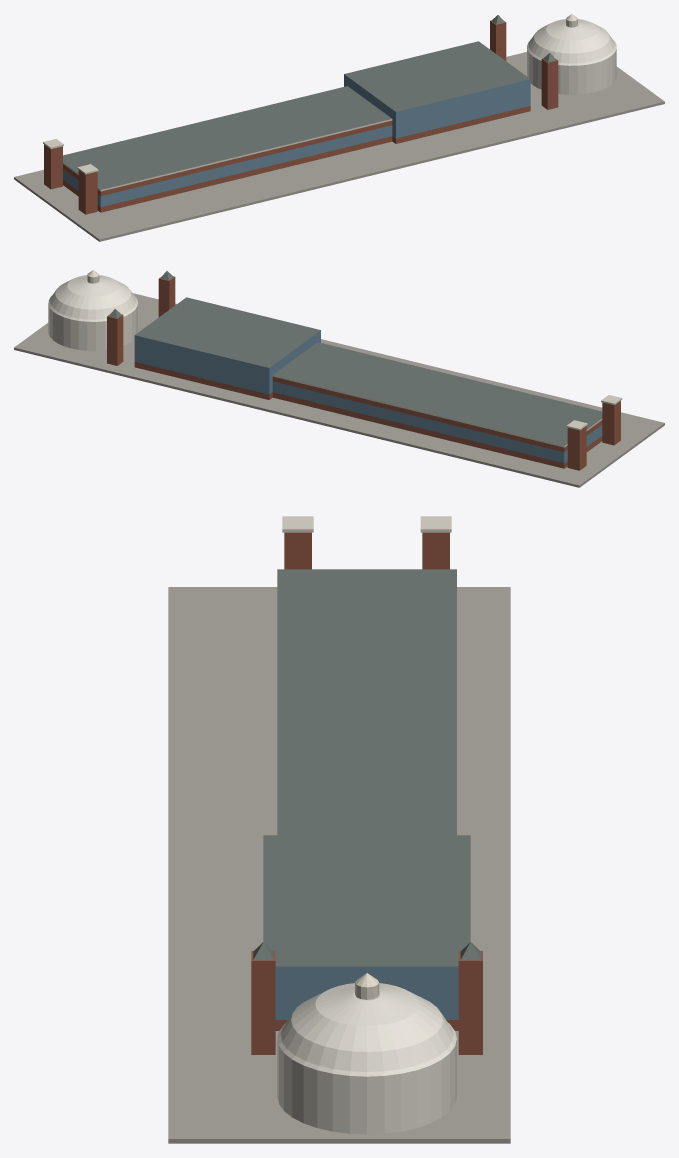
File: navy_pier_festival_hall.glb
The picture shows the model from 3 angles, top to bottom: view 1: azimuth 30°, elevation 25°; view 2: azimuth 150°, elevation 25°; view 3: azimuth 270°, elevation 25°; orthographic projection. The views are drawn at different scales.
Visible parts, largest first — view 1: navy_pier_festival_hall; view 2: navy_pier_festival_hall; view 3: navy_pier_festival_hall.
Part boxes in pixels (x1,y1,x2,y2): navy_pier_festival_hall: [14, 14, 664, 241]; navy_pier_festival_hall: [14, 270, 664, 487]; navy_pier_festival_hall: [168, 516, 510, 1143].
Size of the model in its own units: 378 by 41 by 99.
1 material, 1 textured.
